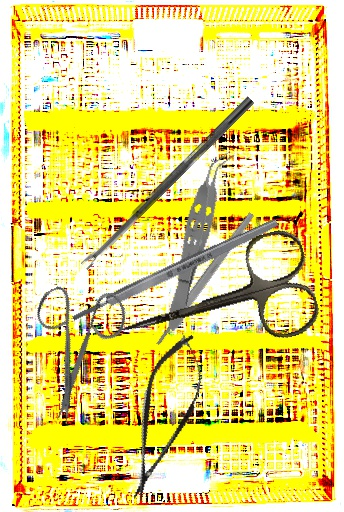Iris Scissors: (104, 225, 324, 380), (1, 263, 160, 427)
Micro Scissor: (112, 327, 217, 508)
Scalpel Handle: (70, 216, 280, 325), (153, 210, 256, 348)
Surgical Spoon: (79, 95, 255, 270)
Tissue Forceps: (157, 144, 237, 336)
